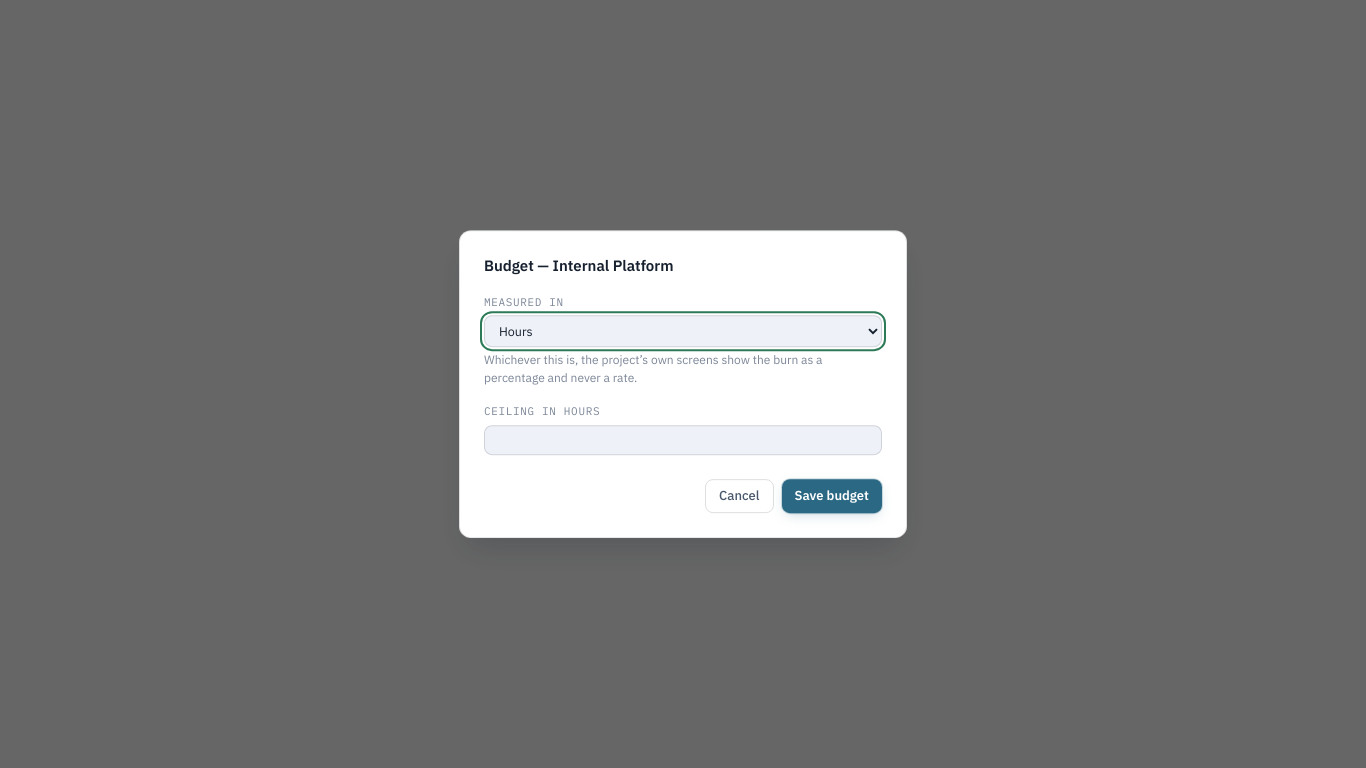
Test: BudgetDialog › warns before the press that a money ceiling on a client-less project burns at unknown
Select "Money" in the dropdown with test id "Billing.Budget.Dialog.Basis" at (683, 331), box [484,315,882,347]
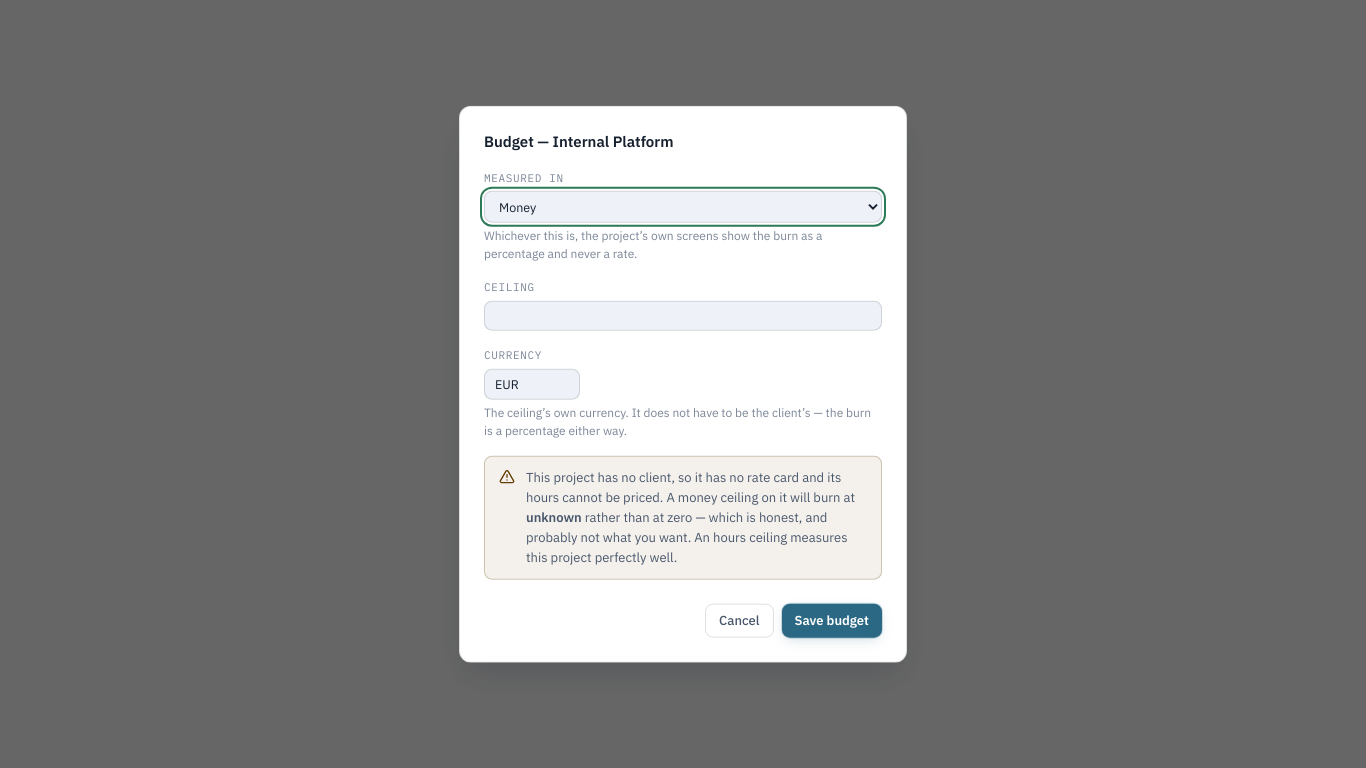
Result: the element with test id "Billing.Budget.Dialog.NoClient" shows "An hours ceiling measures this project perfectly well" at [526,508,848,566]
